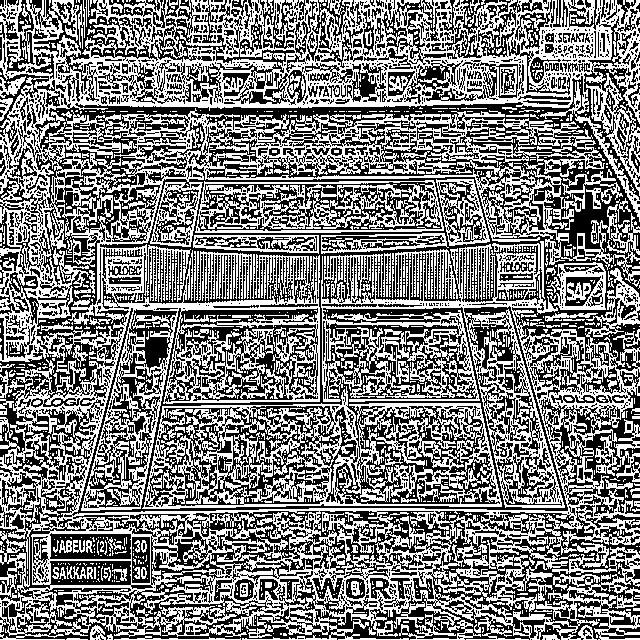left side: (434, 177, 566, 509), (78, 180, 203, 511)
player: (322, 388, 362, 501), (182, 108, 204, 188)
